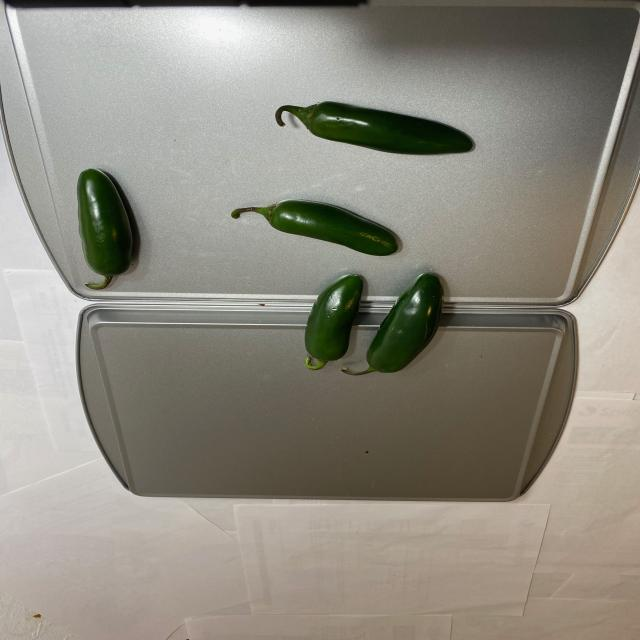chilli: (74, 99, 459, 377)
